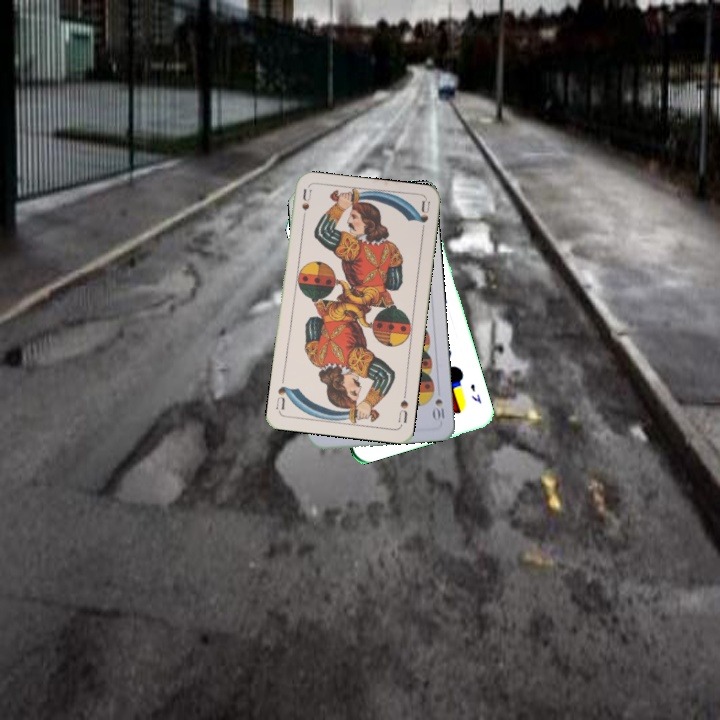EK: (466, 380, 484, 407)
S10: (429, 395, 447, 423)
SU: (394, 387, 411, 427), (298, 185, 314, 226)
